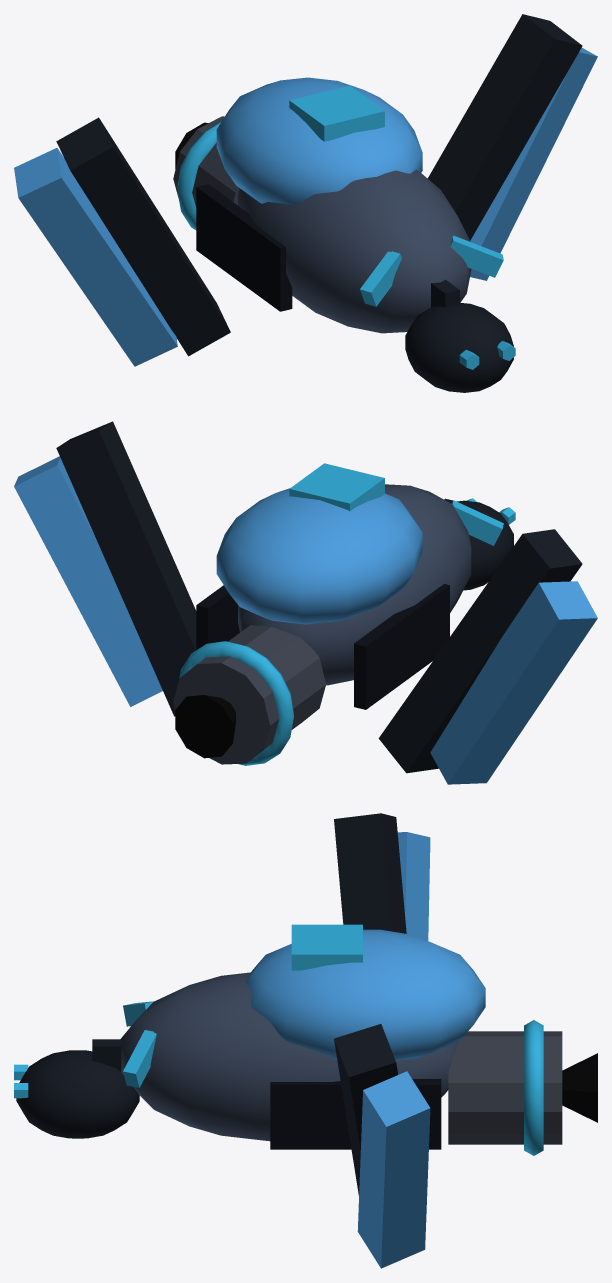
File: Enemy_wolf.fbx
3 views of the same model, one above another, from view 1: azimuth 30°, elevation 25°; view 2: azimuth 150°, elevation 25°; view 3: azimuth 270°, elevation 25° (orthographic).
Visible parts, largest first — view 1: Enemy_wolf; view 2: Enemy_wolf; view 3: Enemy_wolf.
Boxes of the visible parts, x1,y1,x2,y2 form: Enemy_wolf: (14, 14, 597, 392); Enemy_wolf: (14, 421, 597, 784); Enemy_wolf: (14, 813, 597, 1268).
Size of the model in its own units: 0.9567 by 0.4071 by 0.82.
